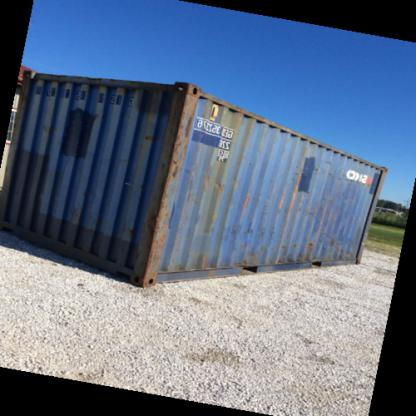Damage: (144, 202, 166, 275), (174, 85, 198, 144), (130, 88, 173, 119), (273, 236, 319, 264), (215, 221, 267, 242), (305, 161, 353, 183), (156, 149, 182, 181), (198, 166, 224, 194), (62, 194, 87, 223), (293, 201, 338, 214), (236, 188, 254, 213), (239, 249, 258, 270), (36, 117, 56, 136), (192, 248, 210, 269), (185, 173, 196, 206), (336, 244, 357, 260), (274, 186, 284, 219), (139, 130, 158, 144), (244, 153, 260, 167), (123, 223, 134, 237)
